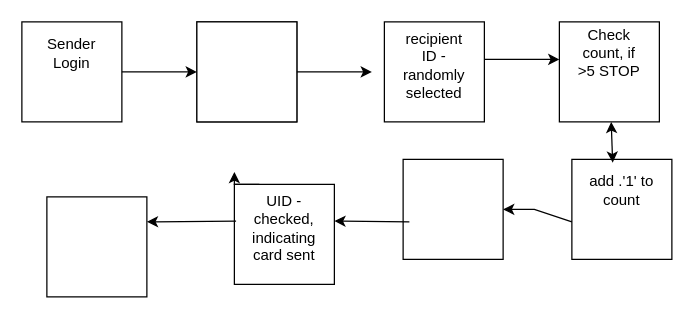
This 694x319 diagram has some shape labels left out. The shapes that lost their labels are listed below. From the top down, each one's box as (x1, y1, x2, y2) in pixels, then its label:
(196, 21, 297, 122): Select Card
(402, 158, 503, 259): send card
(46, 196, 147, 297): email sent to confirm card has been sent
